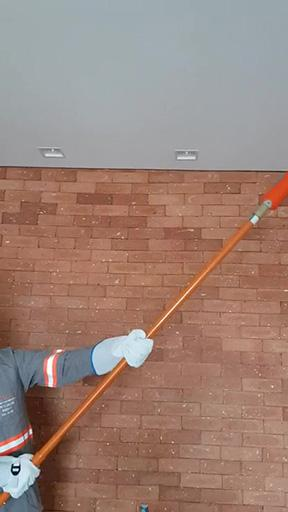Vara_Manobra: (1, 206, 270, 504)
